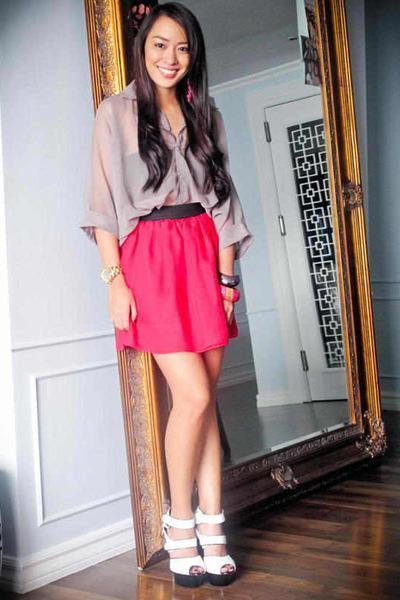long sleeve shirt: (77, 85, 252, 252)
skirt: (108, 209, 238, 355)
